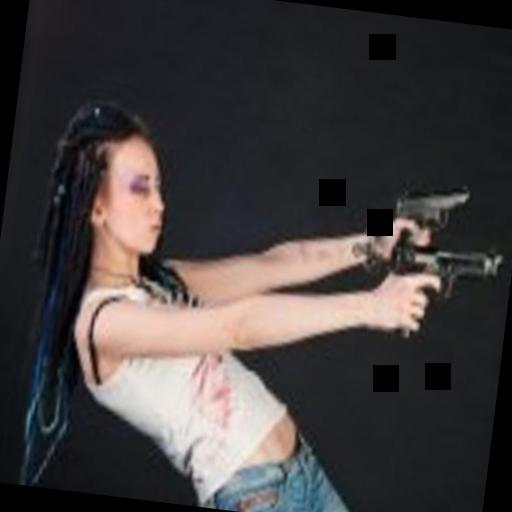Handgun: (383, 233, 501, 354), (374, 167, 482, 270)
